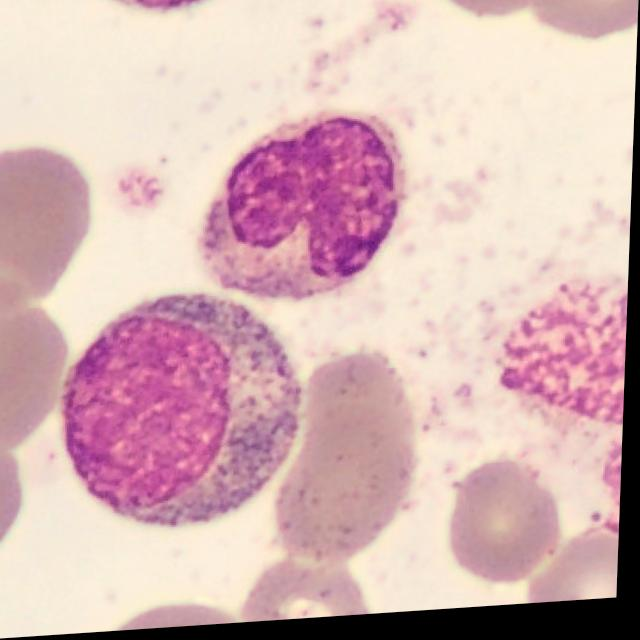Metamielocito: (202, 121, 406, 306)
Mielocito: (63, 298, 305, 530)
